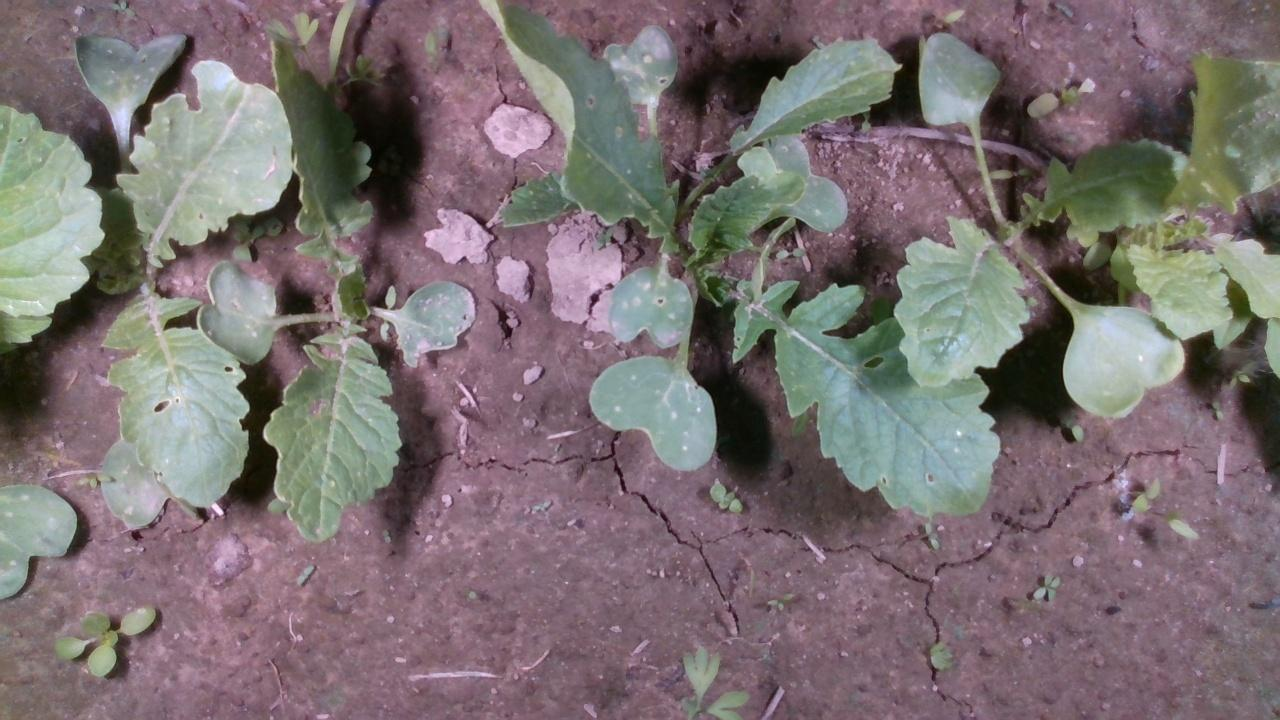weed: (706, 478, 745, 515), (1128, 476, 1161, 512), (1030, 568, 1062, 602), (764, 588, 796, 611), (920, 520, 939, 551), (1207, 398, 1226, 424)
